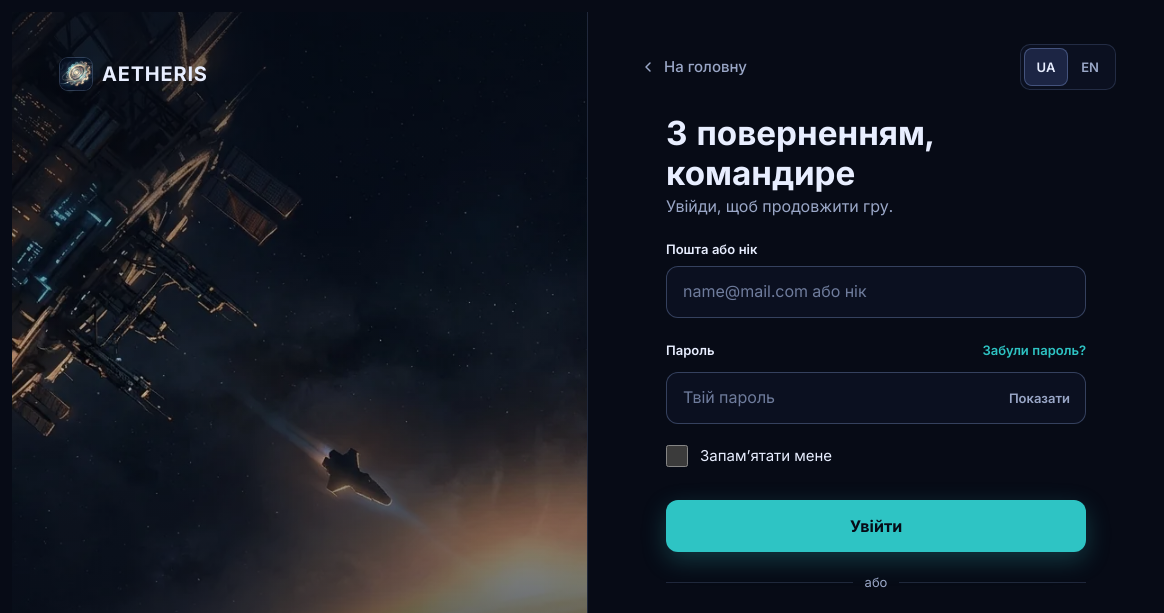
it: LoginPage › explains a temporary lockout
Type "pilot@example.test" into the field labelled "Пошта або нік" at (876, 292), box [666,266,1086,318]
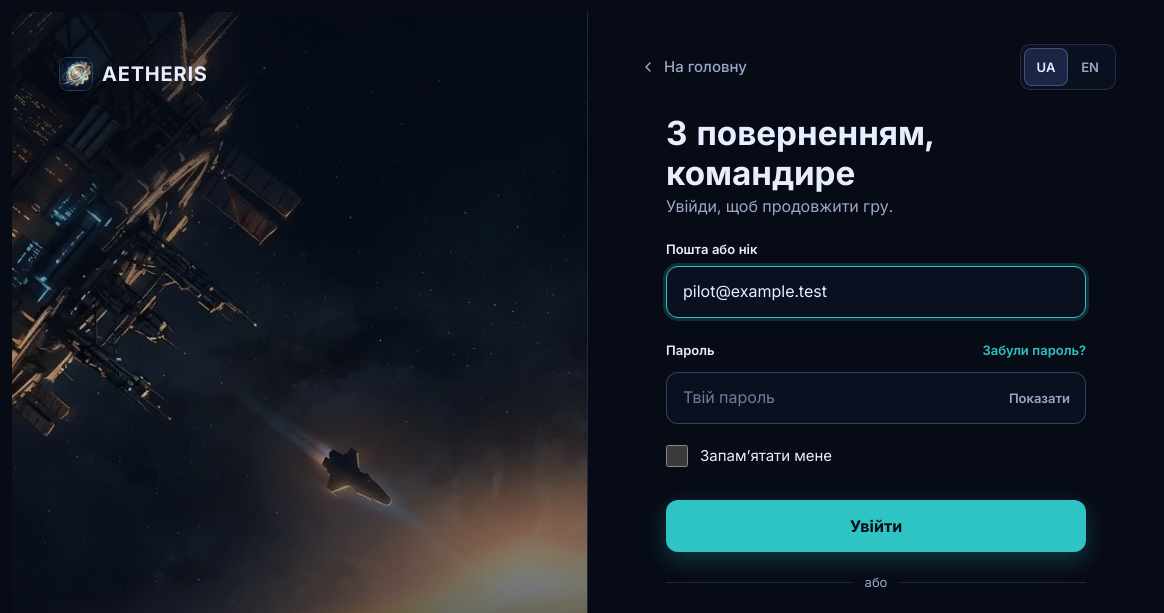
Type "any-password" into the password field labelled "Пароль" at (876, 398), box [666,372,1086,424]
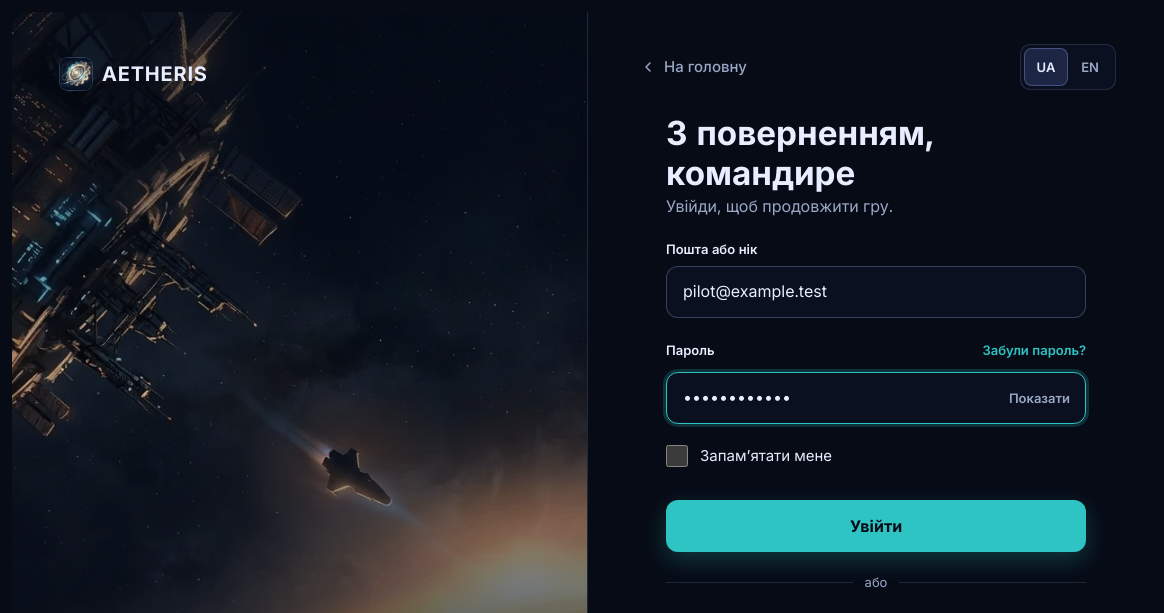
Click the button "Увійти" at (876, 526), box [666,500,1086,552]
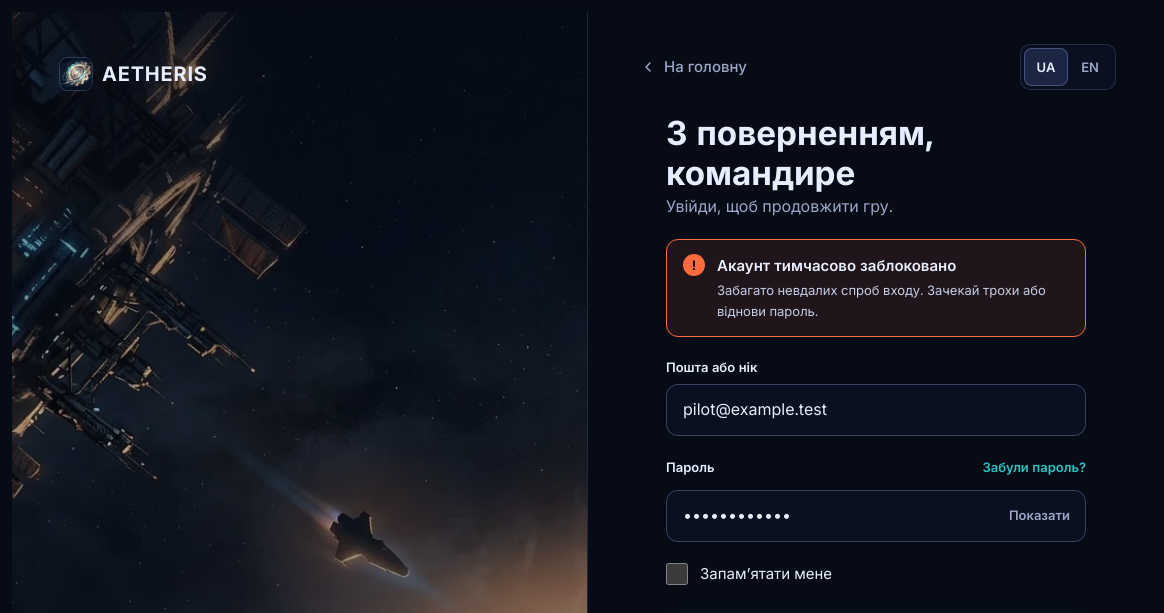
Now the message shows "Акаунт тимчасово заблоковано", box [717,256,956,275]
